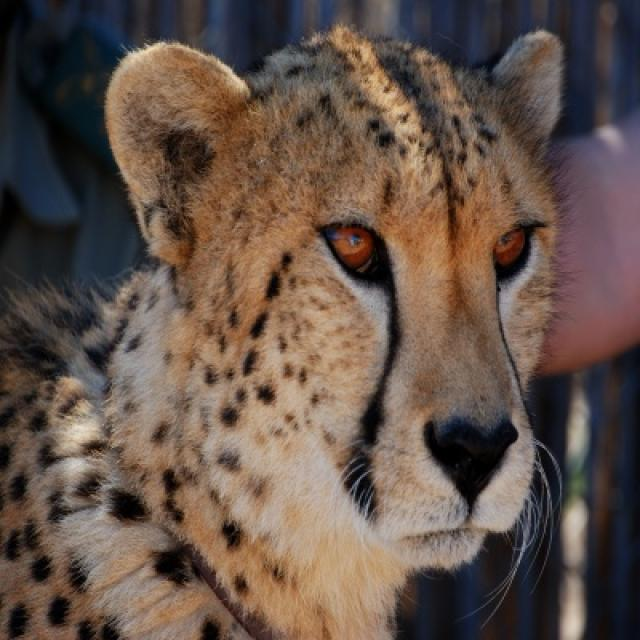Cheetah: (1, 16, 572, 638)
